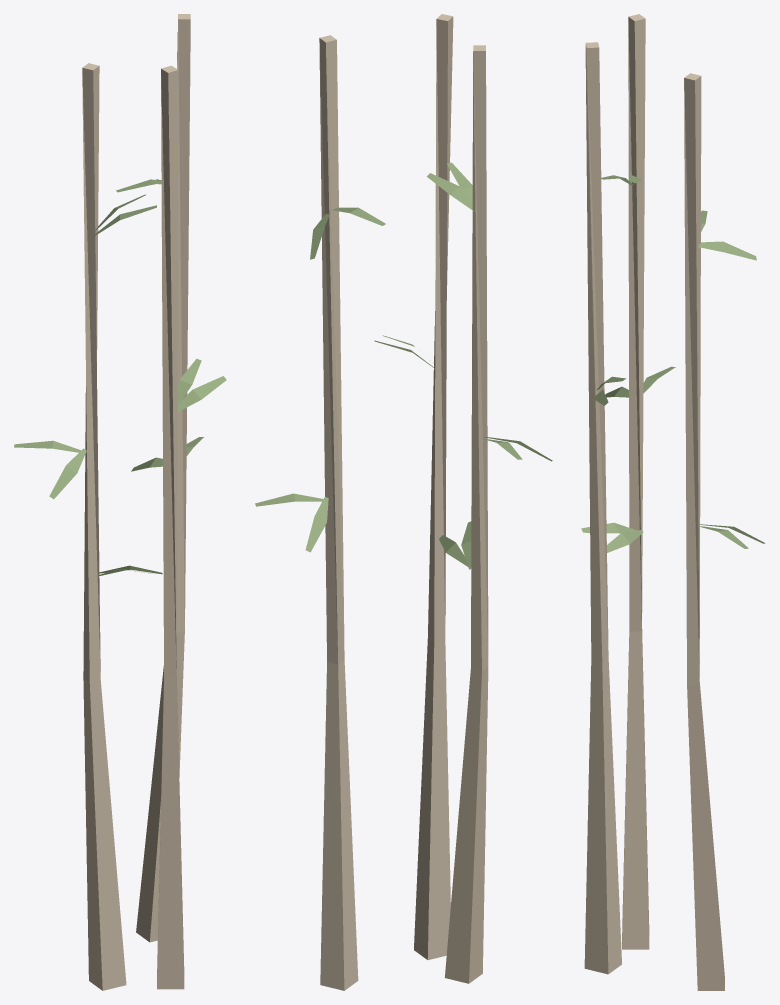
The model's file is PhyllostachysAurea.glb.
The picture shows the model from 3 angles, left to right: view 1: azimuth 30°, elevation 25°; view 2: azimuth 150°, elevation 25°; view 3: azimuth 270°, elevation 25°; orthographic projection.
Parts seen in each view (by area): view 1: Trunk, Crown; view 2: Trunk, Crown; view 3: Trunk, Crown.
Part boxes in pixels (x1=…): Trunk: x1=82, y1=14, x2=190, y2=990; Crown: x1=14, y1=179, x2=226, y2=575; Trunk: x1=319, y1=14, x2=488, y2=990; Crown: x1=255, y1=162, x2=552, y2=569; Trunk: x1=584, y1=14, x2=724, y2=990; Crown: x1=581, y1=174, x2=765, y2=552.
Size of the model in its own units: 1 by 3.88 by 0.7077.
